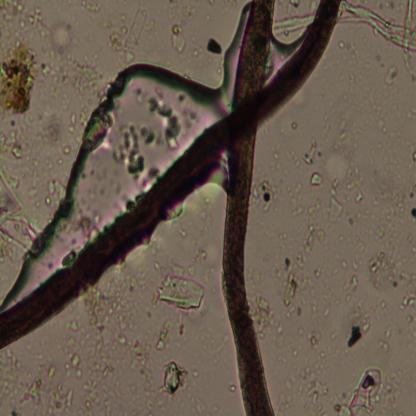Air bubble: (18, 57, 205, 276)
Background material: (279, 217, 327, 313), (15, 349, 84, 413), (84, 285, 118, 414), (0, 2, 74, 50), (118, 333, 160, 408), (0, 47, 39, 119), (155, 260, 208, 311), (0, 171, 35, 245), (114, 274, 156, 334), (340, 365, 388, 415), (108, 3, 150, 59), (369, 239, 416, 289), (39, 60, 103, 96), (283, 366, 335, 410), (147, 88, 184, 146), (380, 179, 416, 232), (329, 120, 361, 176), (117, 124, 144, 172), (161, 358, 189, 399), (251, 296, 276, 340), (88, 110, 113, 152), (345, 313, 372, 351), (369, 100, 395, 139), (43, 172, 67, 209), (254, 177, 278, 214), (327, 177, 345, 226), (337, 261, 359, 299), (64, 108, 80, 152), (304, 327, 326, 359), (156, 312, 173, 352), (345, 167, 364, 201), (300, 136, 320, 168), (0, 133, 23, 156), (169, 26, 188, 53), (345, 67, 361, 99), (376, 326, 392, 354), (397, 292, 416, 312), (206, 38, 224, 56), (308, 170, 326, 187), (383, 66, 399, 84), (81, 1, 105, 13), (284, 117, 302, 132), (288, 347, 302, 361), (276, 318, 285, 339), (409, 153, 416, 167), (230, 382, 236, 392)
Cellulose filter fibre: (337, 0, 416, 67), (272, 12, 316, 32)
Microfibre: (1, 1, 343, 351), (224, 0, 276, 416)
